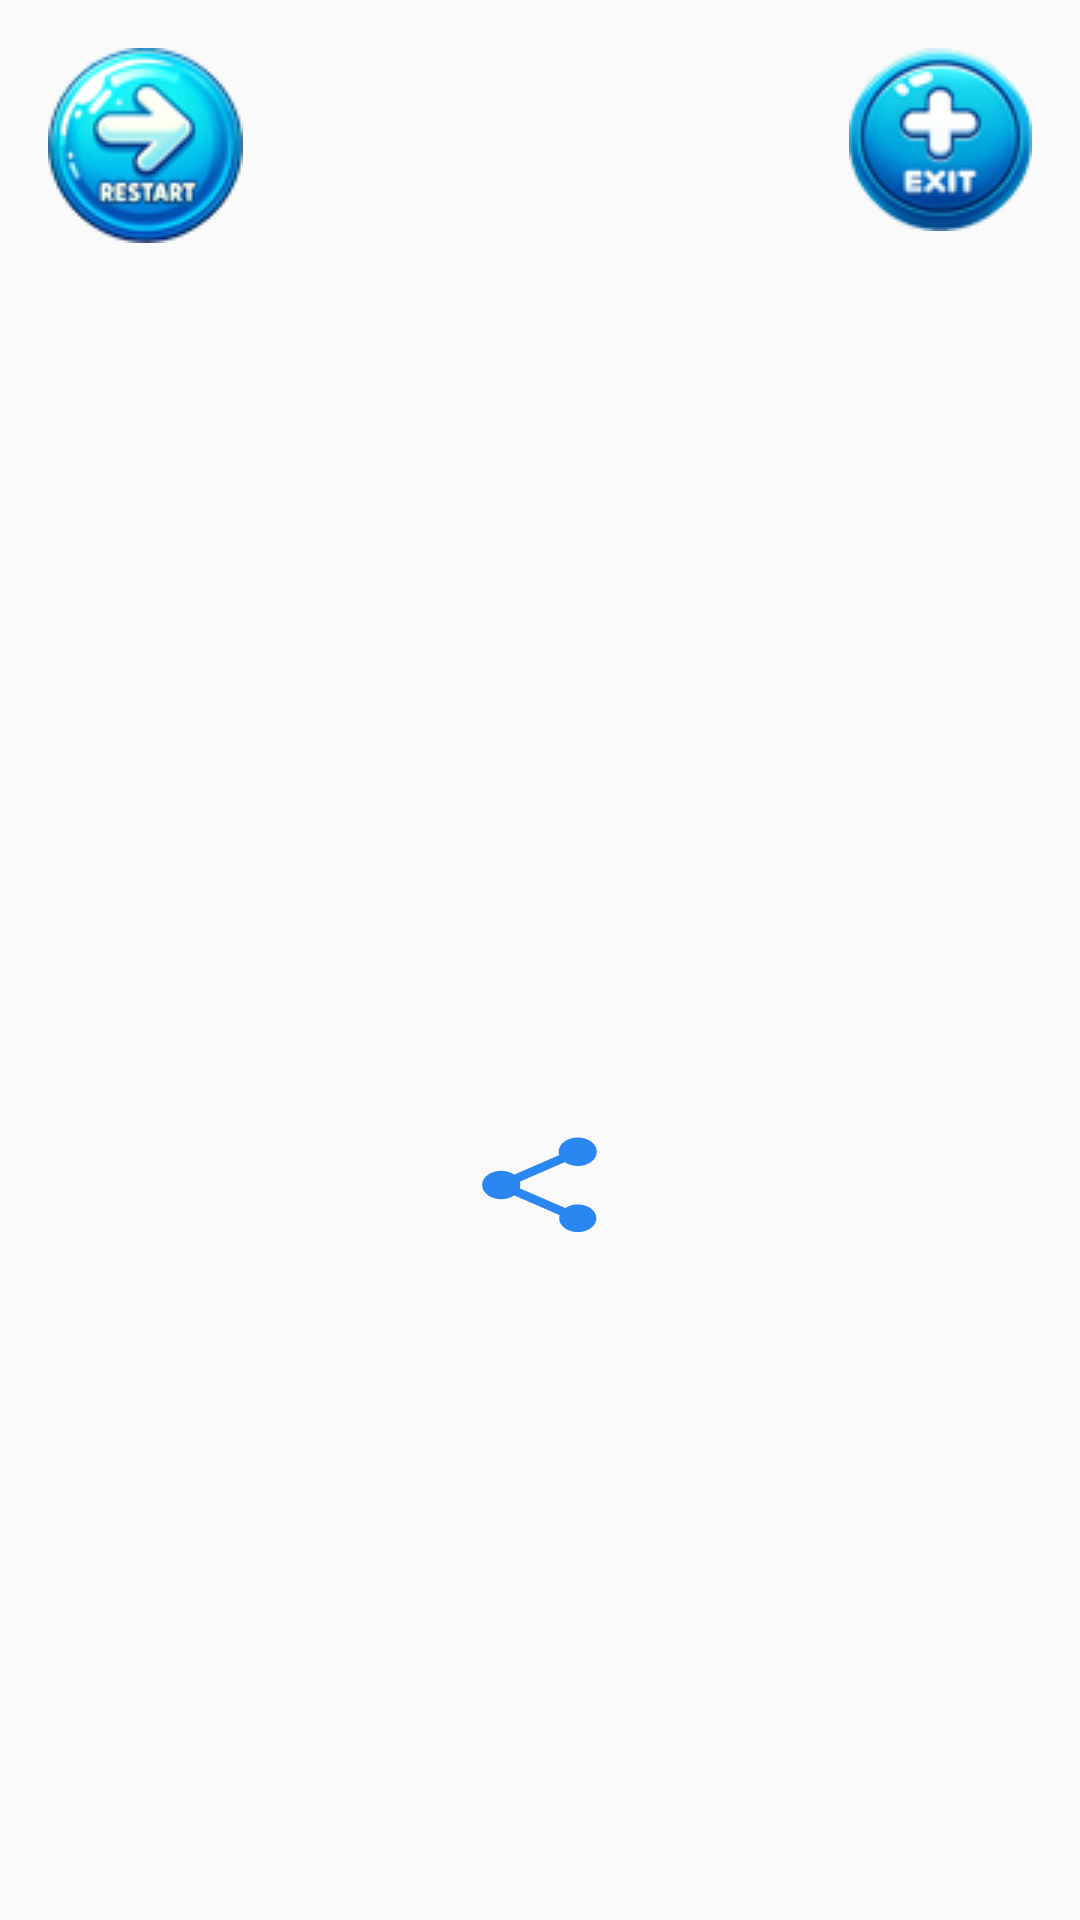

Where to tap for icons on this 1080 × 1920 app screen, as point (x, y):
share: point (539, 1184)
